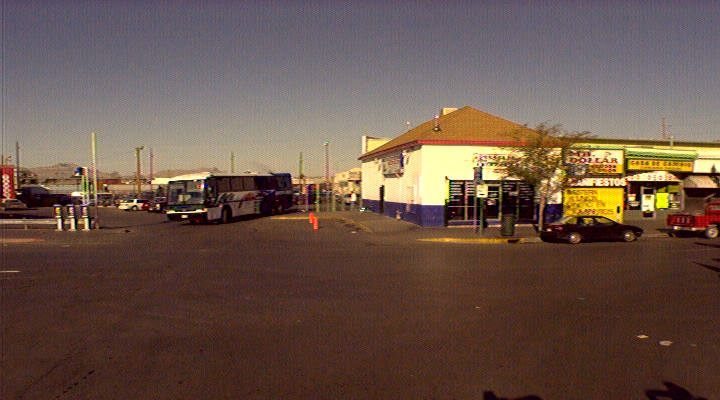Ramp: (368, 223, 431, 244)
